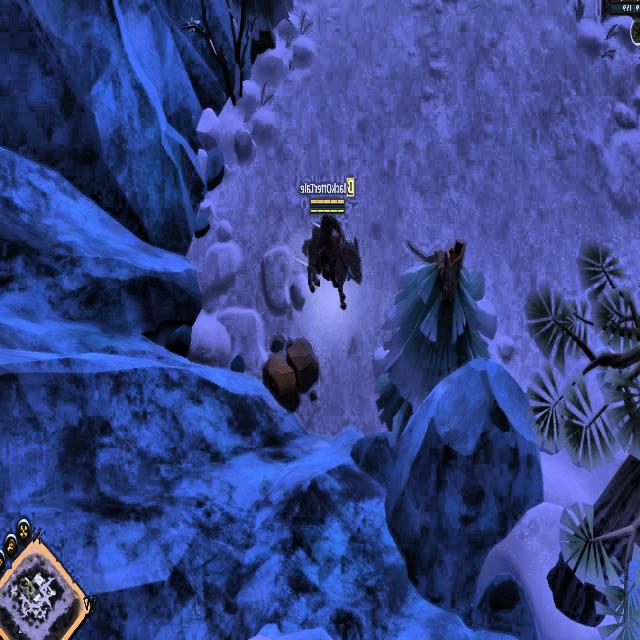limestone: (263, 335, 322, 410)
